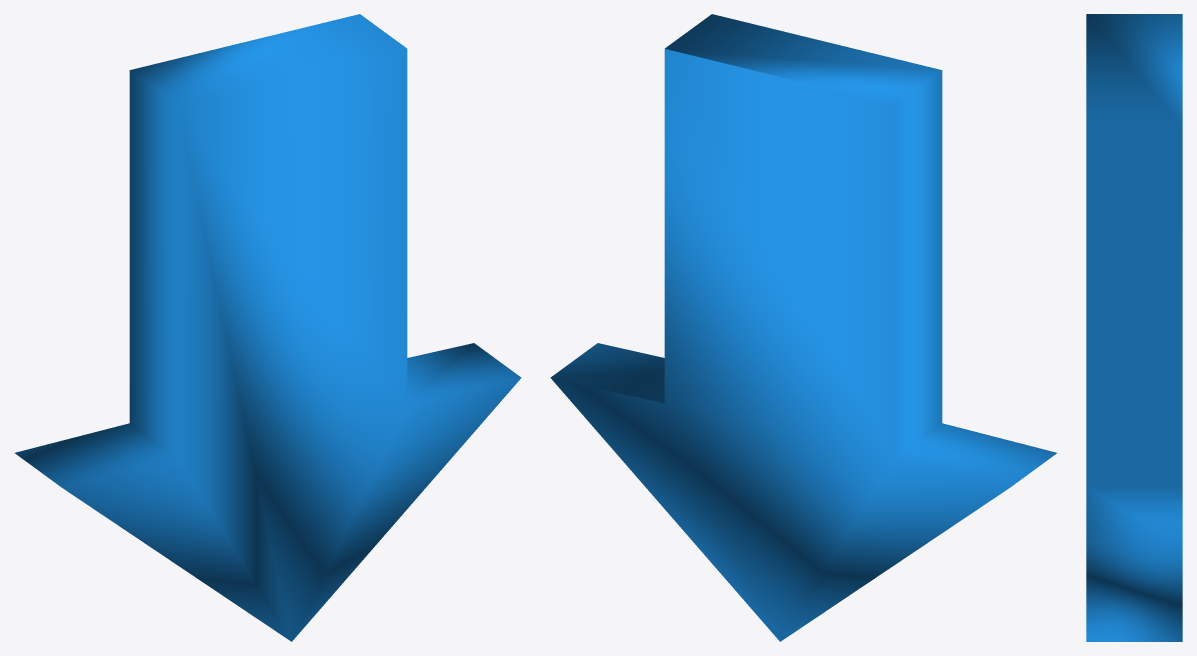
Rendered from possible_move.glb.
3 renders of one model, left to right at view 1: azimuth 30°, elevation 25°; view 2: azimuth 150°, elevation 25°; view 3: azimuth 270°, elevation 25°, orthographic.
Parts seen in each view (by area): view 1: Plane; view 2: Plane; view 3: Plane.
Boxes of the visible parts, x1,y1,x2,y2 form: Plane: (15,14,521,641); Plane: (550,14,1056,641); Plane: (1086,14,1182,641).
Size of the model in its own units: 1.15 by 1.34 by 0.2048.
